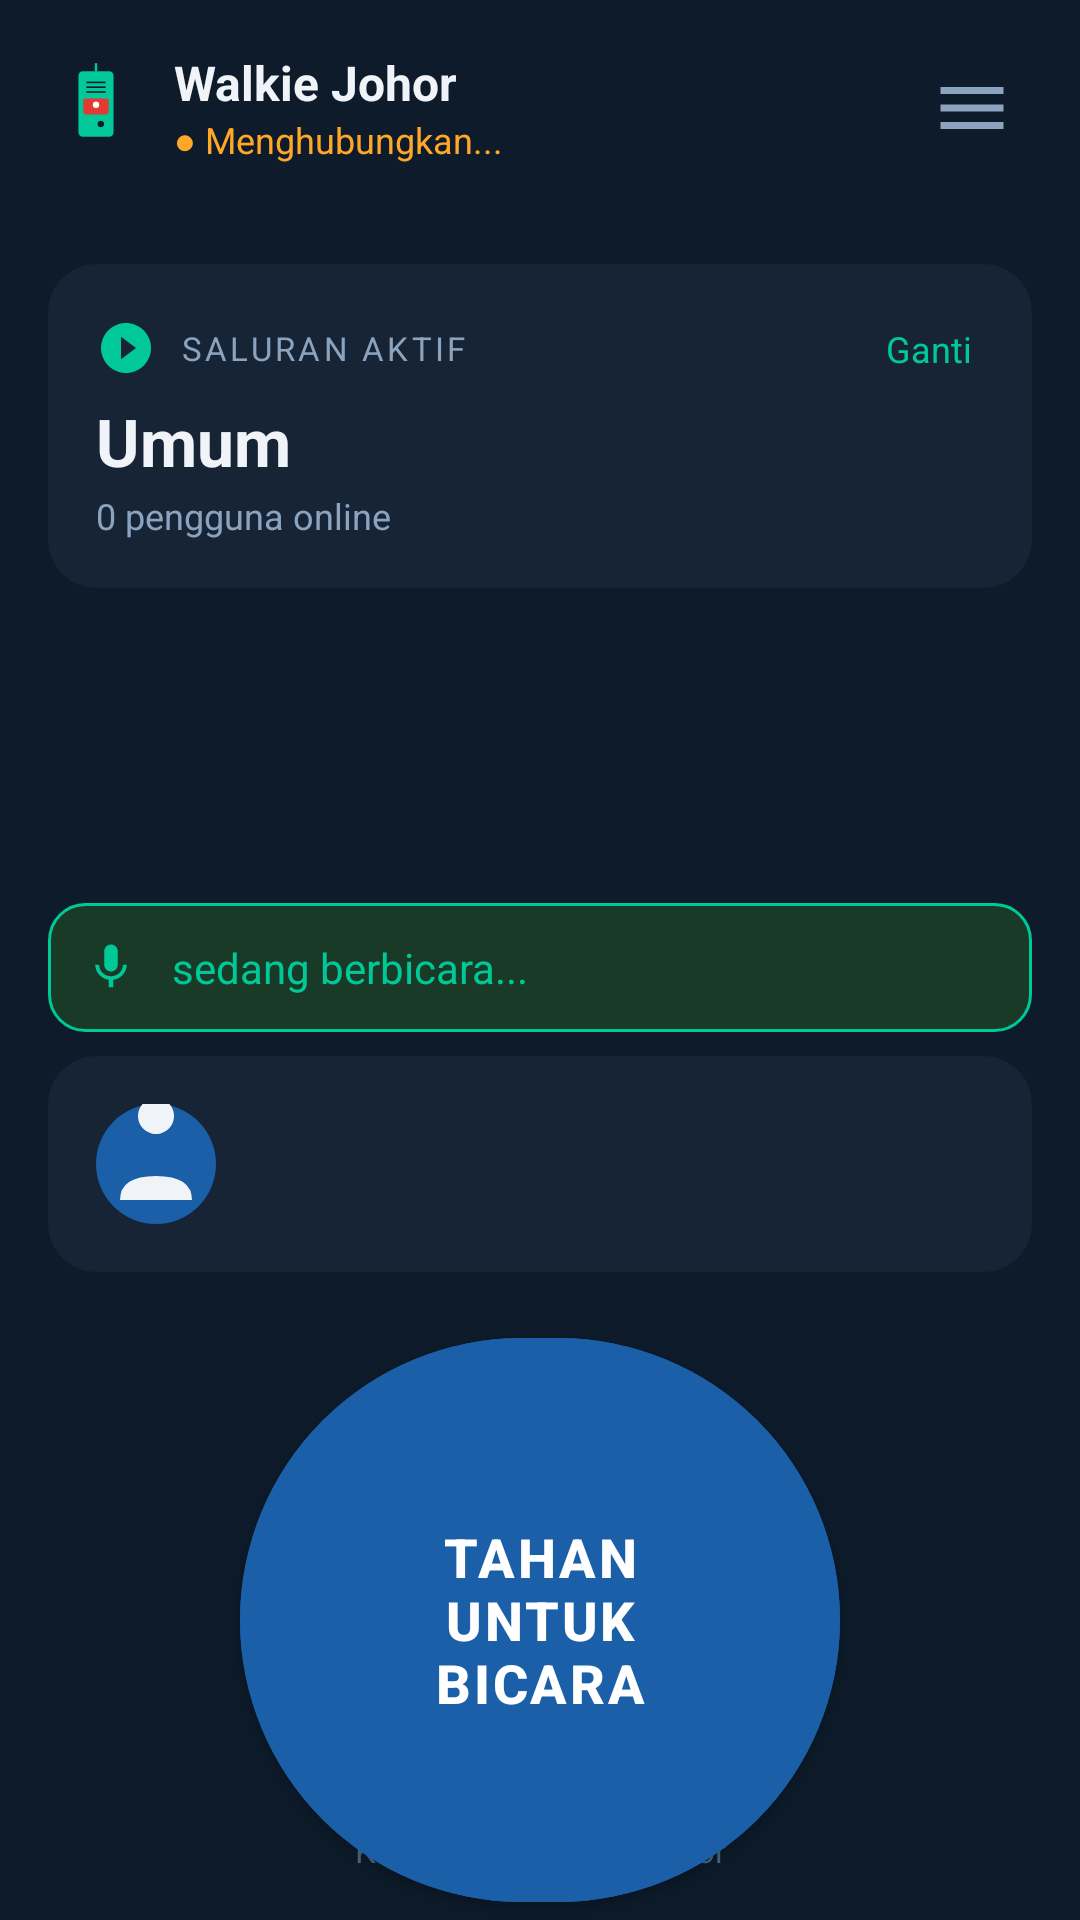

Named icons in this screenshot (1080px x 1920px) and their bounding boxes, (x1, y1, x2, y2):
menu: (940, 87, 1004, 129)
mic on: (95, 944, 127, 988)
